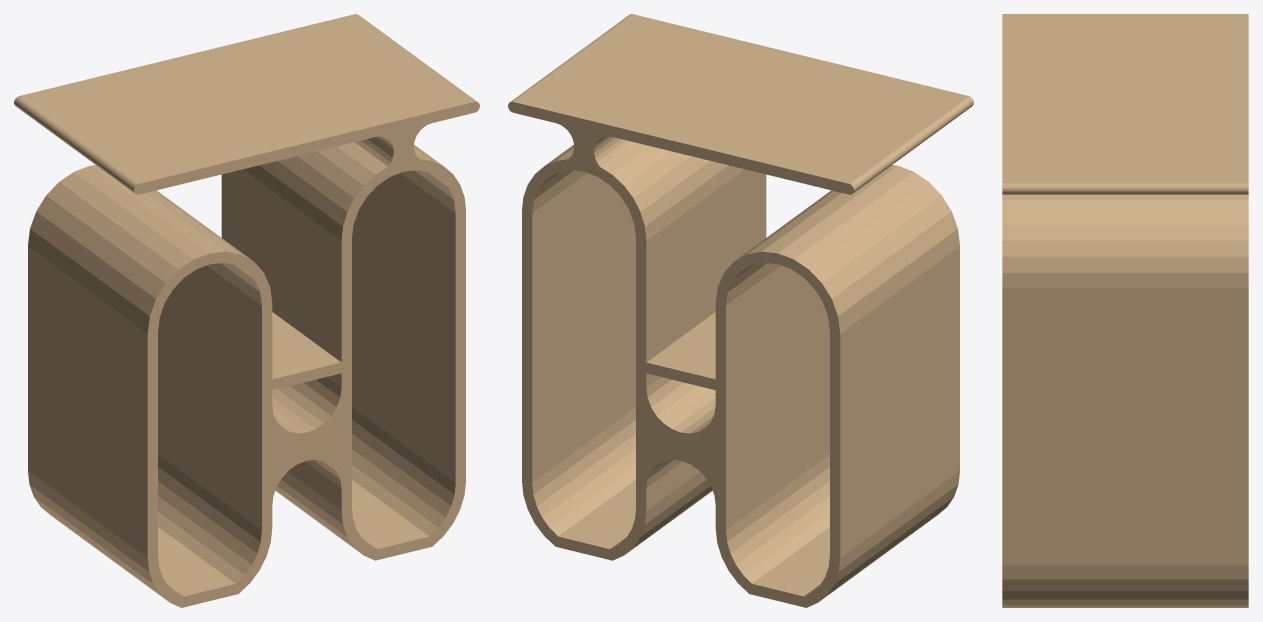
Rendered from mariana-celiz.glb.
The picture shows the model from 3 angles, left to right: view 1: azimuth 30°, elevation 25°; view 2: azimuth 150°, elevation 25°; view 3: azimuth 270°, elevation 25°; orthographic projection. The views are drawn at different scales.
Visible parts, largest first — view 1: MarianaSand_Mesh; view 2: MarianaSand_Mesh; view 3: MarianaSand_Mesh.
Part boxes in pixels (x1,y1,x2,y2): MarianaSand_Mesh: (14,14,479,607); MarianaSand_Mesh: (508,14,973,607); MarianaSand_Mesh: (1002,14,1248,607).
Size of the model in its own units: 0.5417 by 0.65 by 0.325.
